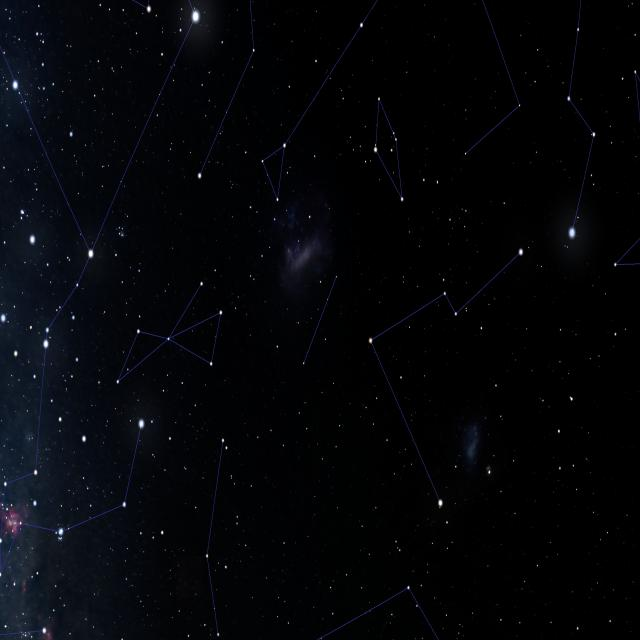Mensa: (297, 268, 343, 369)
